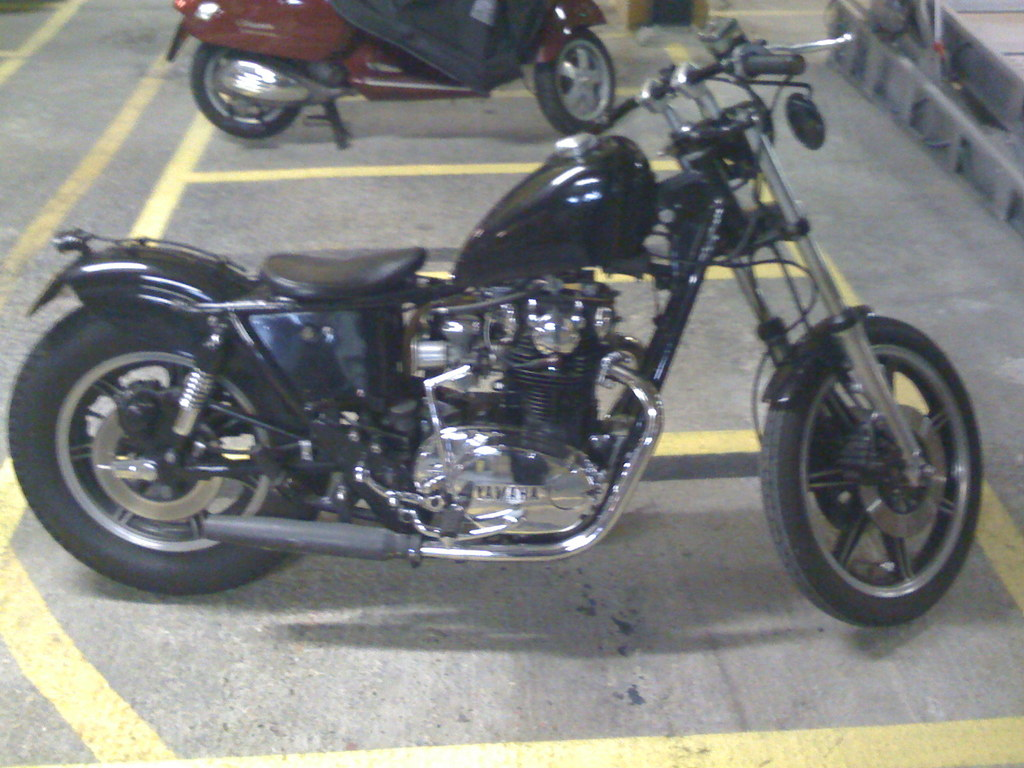Motorcycle: (5, 11, 978, 631)
